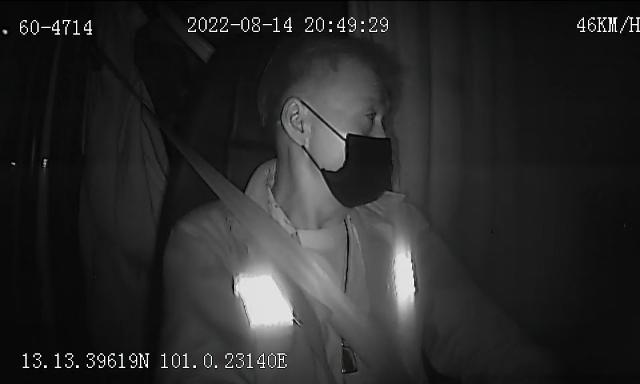Seatbelt: (82, 180, 388, 372)
